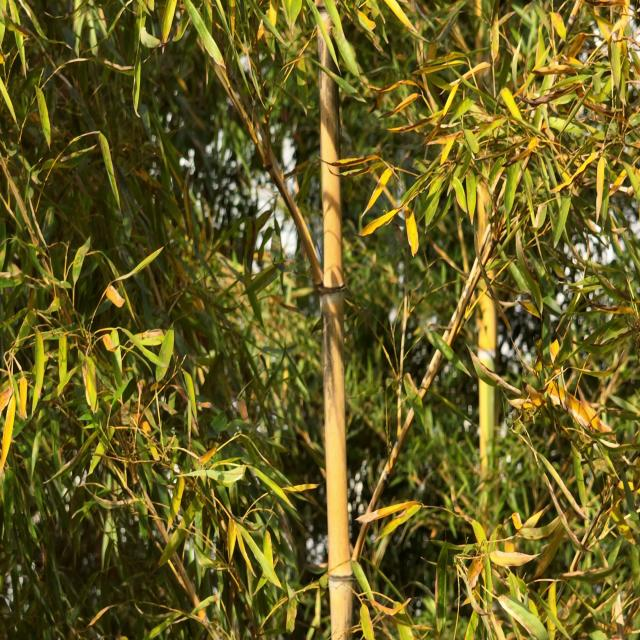Bamboo-shoots: (315, 0, 357, 640)
